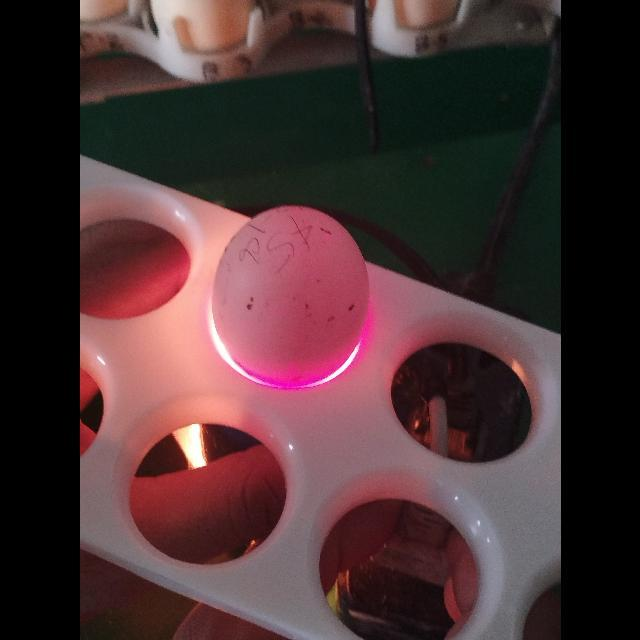Fertile: (206, 200, 372, 392)
